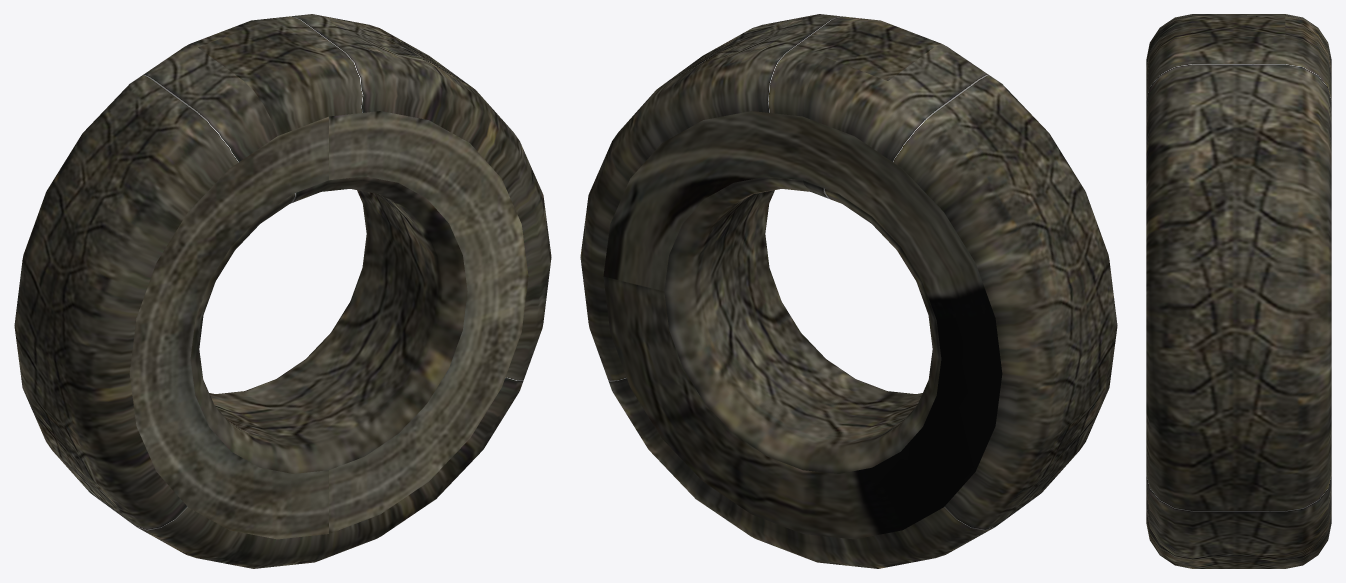
Rendered from tire.obj.
The picture shows the model from 3 angles, left to right: view 1: azimuth 30°, elevation 25°; view 2: azimuth 150°, elevation 25°; view 3: azimuth 270°, elevation 25°; orthographic projection.
Parts seen in each view (by area): view 1: pPipe1; view 2: pPipe1; view 3: pPipe1.
Boxes of the visible parts, x1,y1,x2,y2 form: pPipe1: (14, 14, 551, 568); pPipe1: (580, 14, 1117, 568); pPipe1: (1146, 14, 1331, 568).
Bounding box in the file's own units: 2 × 2 × 0.6662.
Materials: 1 (1 with a texture image).
